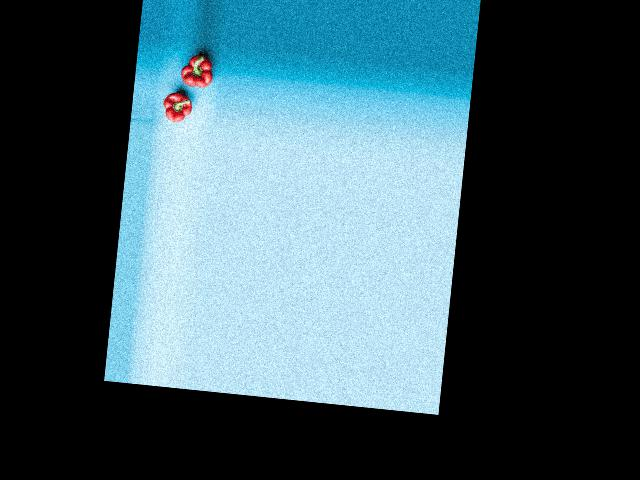bell_pepper: (175, 49, 214, 95)
